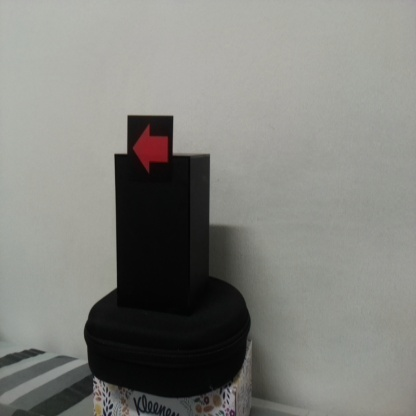id_4: (127, 116, 173, 181)
